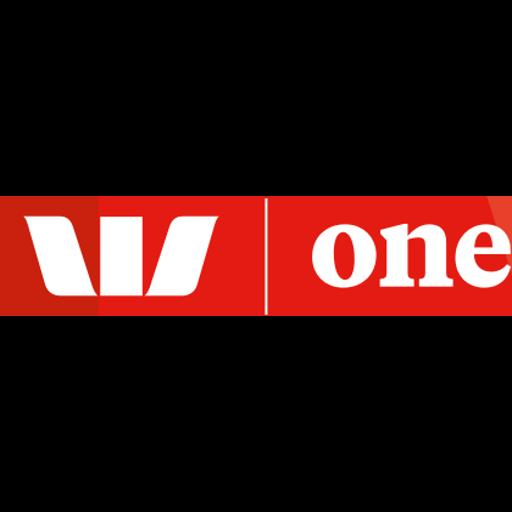Westpac Institutional Banking: (0, 196, 512, 316)
